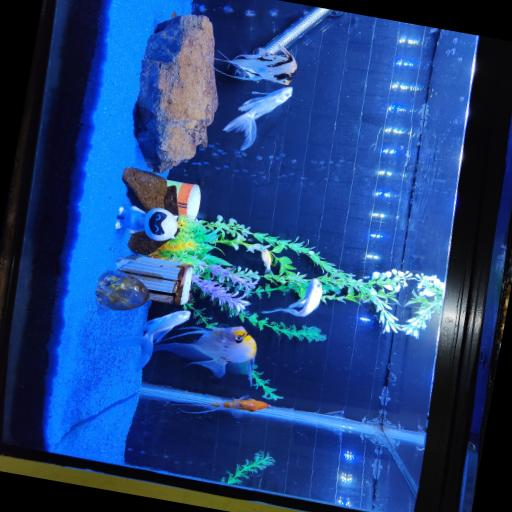Fish: (153, 325, 256, 382), (111, 310, 190, 369), (223, 86, 292, 149), (212, 46, 296, 84), (260, 278, 322, 315), (171, 395, 270, 417), (260, 246, 271, 272)
